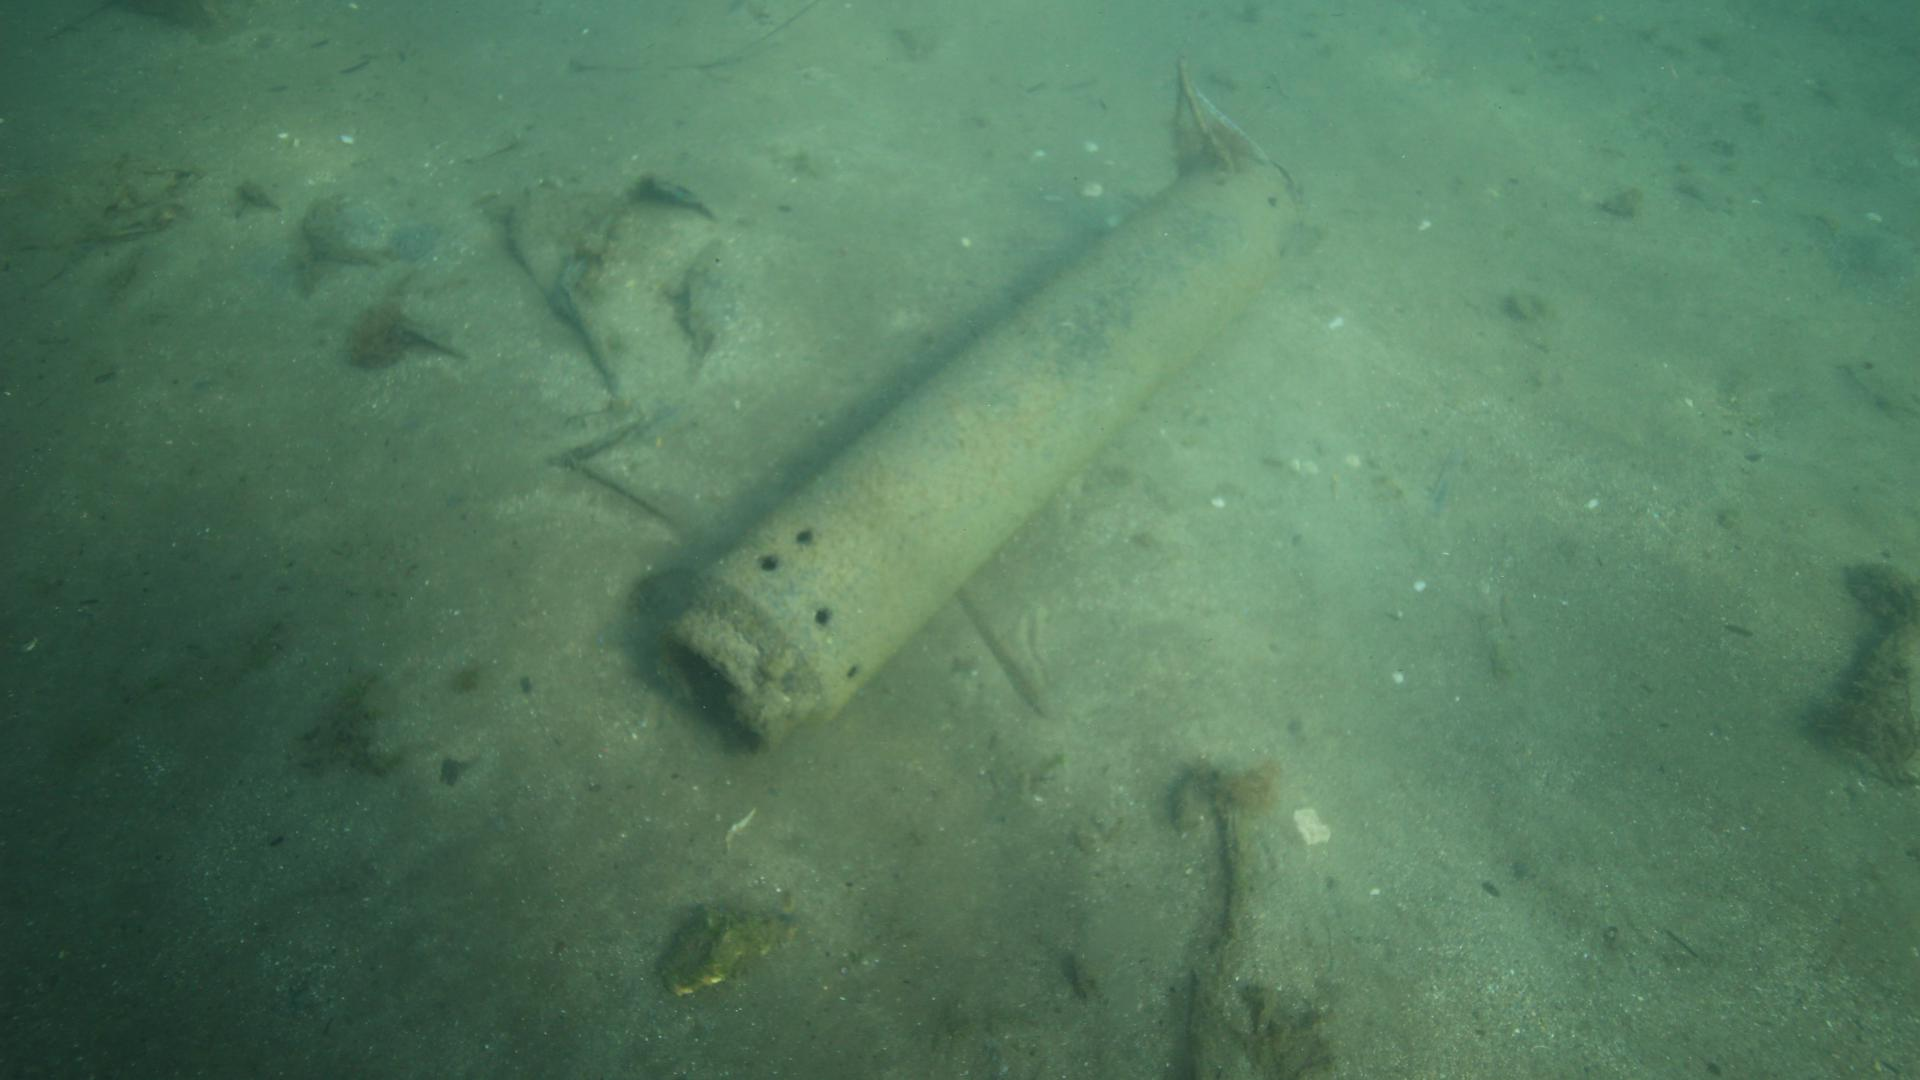eel fish trap: (659, 146, 1296, 756)
rope: (1166, 50, 1238, 185)
